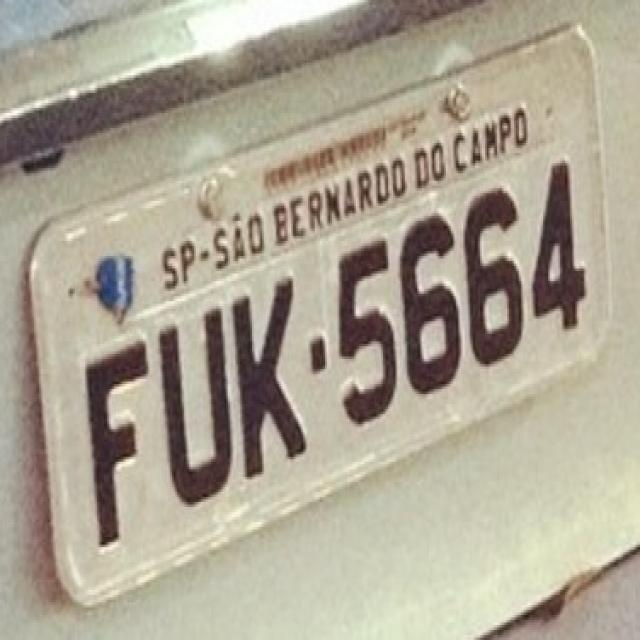LicensePlate: (20, 19, 632, 621)
